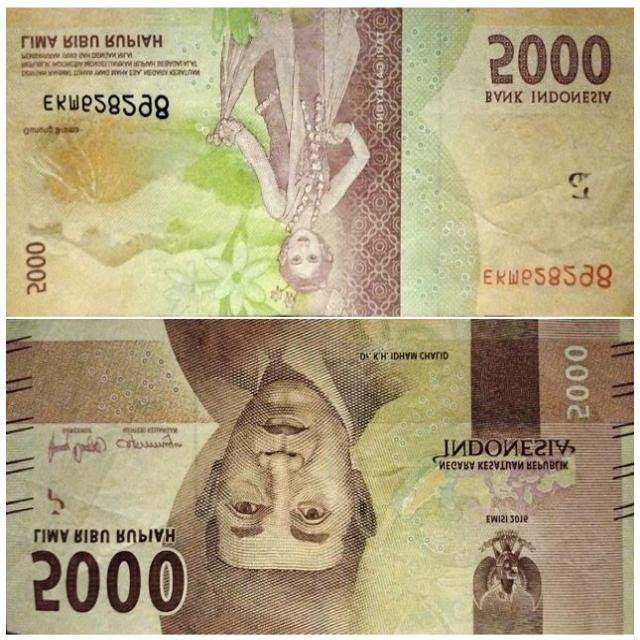lima ribu rupiah: (6, 319, 634, 637), (5, 8, 634, 316)
